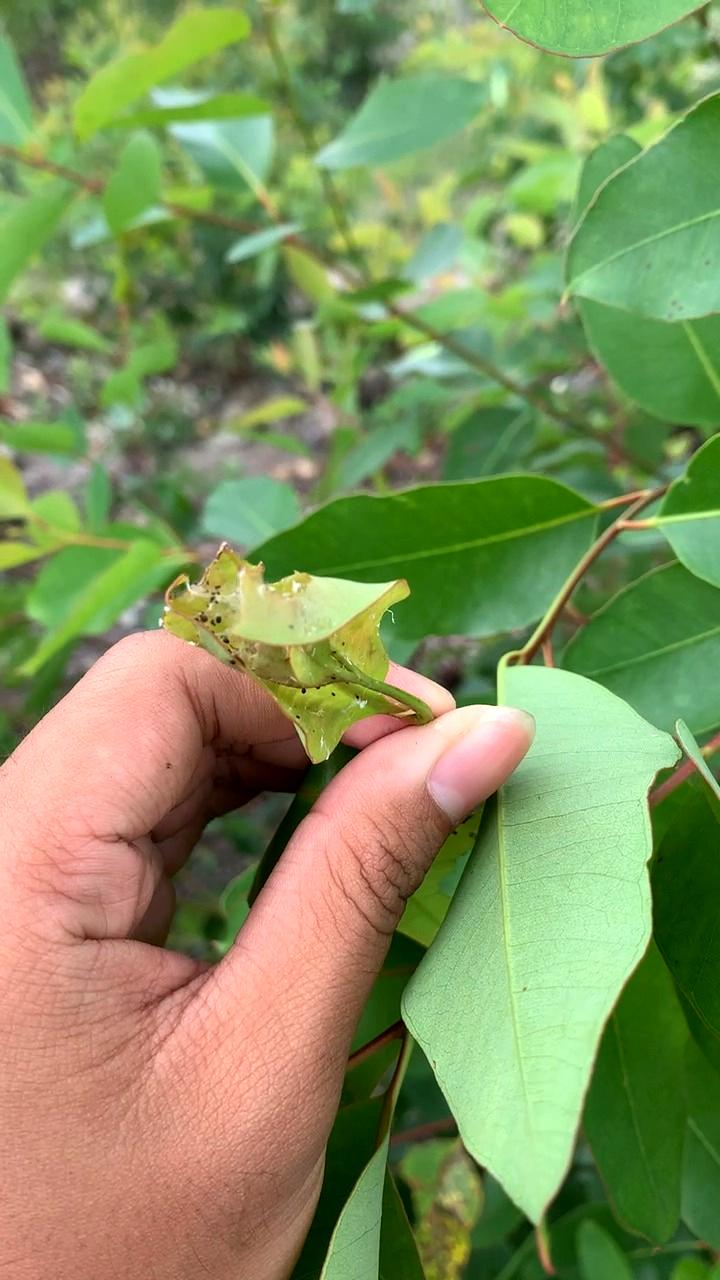Leaf Roller - Leaf: (156, 548, 407, 755)
